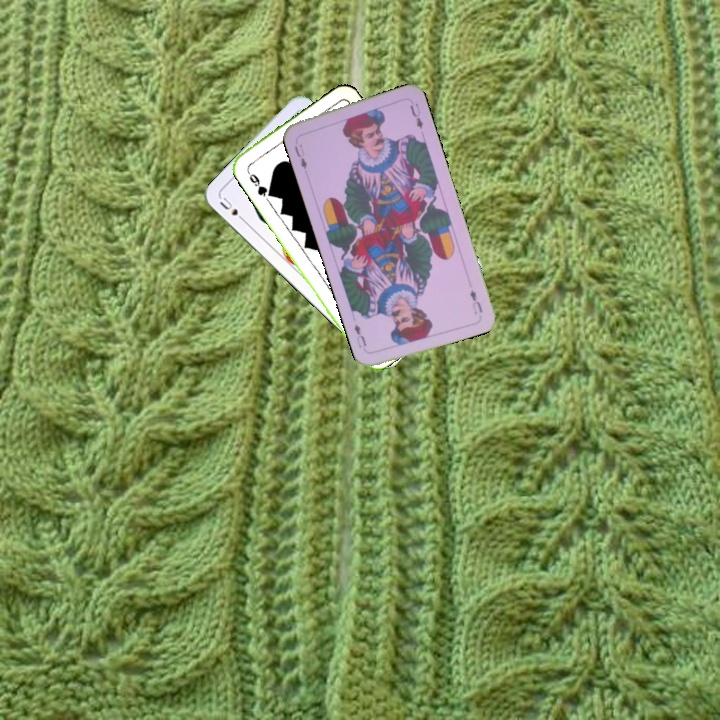EU: (290, 140, 310, 172), (466, 286, 485, 317)
G9: (242, 165, 272, 199)
SU: (215, 193, 249, 225)
